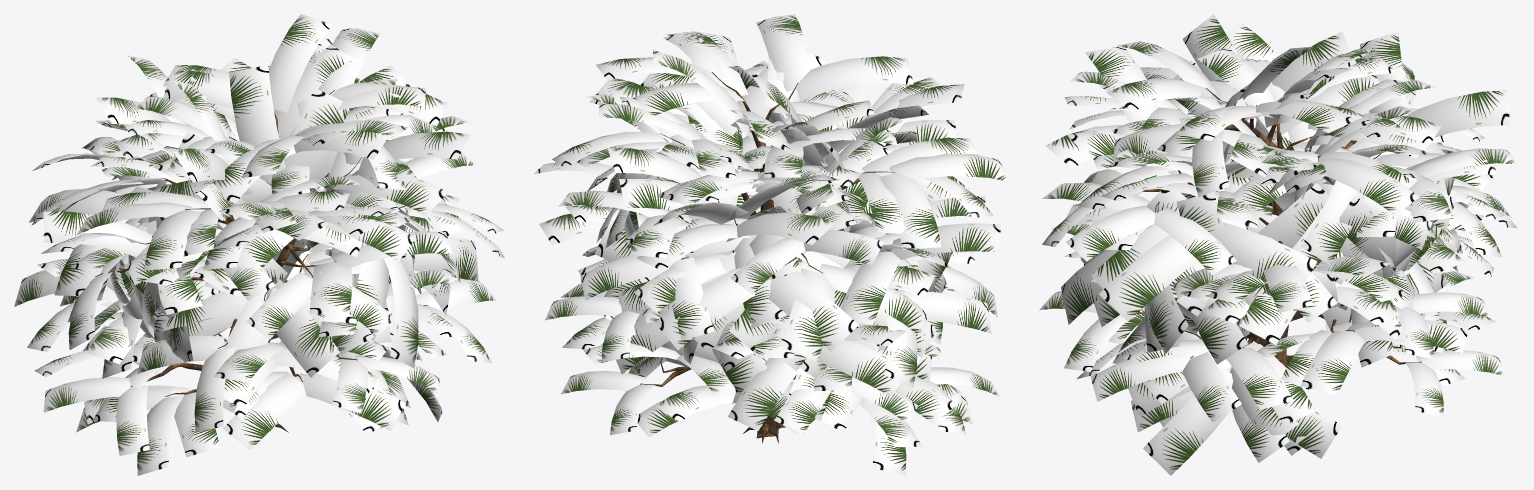
Rendered from Tree_exotic1.fbx.
3 renders of one model, left to right at view 1: azimuth 30°, elevation 25°; view 2: azimuth 150°, elevation 25°; view 3: azimuth 270°, elevation 25°, orthographic. The views are drawn at different scales.
Visible parts, largest first — view 1: LOD0; view 2: LOD0; view 3: LOD0.
Boxes of the visible parts, left/top/right/bottom form: LOD0: left=14, top=14, right=504, bottom=475; LOD0: left=533, top=14, right=1010, bottom=475; LOD0: left=1039, top=14, right=1519, bottom=475.
Size of what is drawn, in the model's own units: 18.53 by 14.86 by 16.5.
